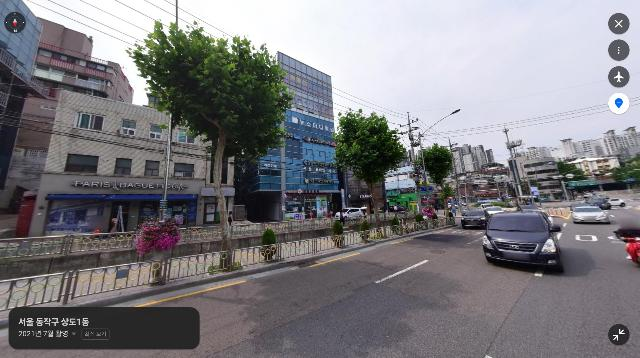other: (125, 18, 296, 253), (332, 107, 407, 224), (420, 141, 453, 217)
